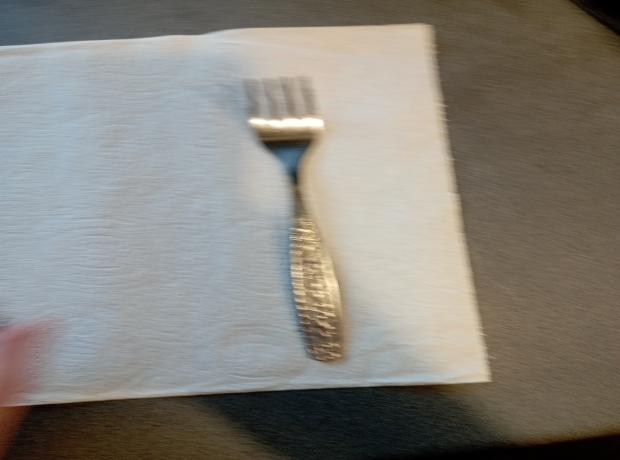metal: (241, 74, 352, 362)
